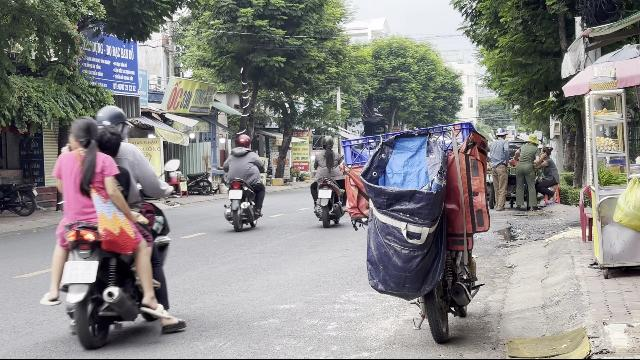helmet: (93, 105, 129, 141), (235, 134, 251, 148), (321, 135, 334, 149)
licenseplate: (62, 261, 98, 283), (228, 190, 242, 198), (318, 190, 332, 198)
motorcyclist: (37, 103, 177, 348), (220, 133, 266, 231), (308, 135, 346, 227)
nohelmet: (67, 116, 99, 150)
